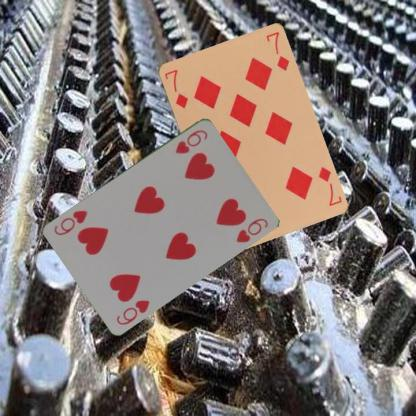6h: (113, 296, 152, 326), (173, 127, 209, 156)
7d: (161, 66, 190, 110), (315, 164, 342, 208)
